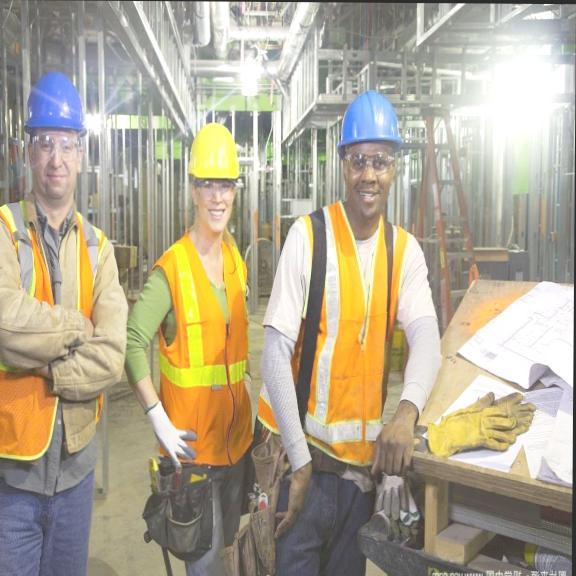safety_vest: (259, 206, 433, 464), (0, 194, 129, 469), (140, 233, 255, 468)
